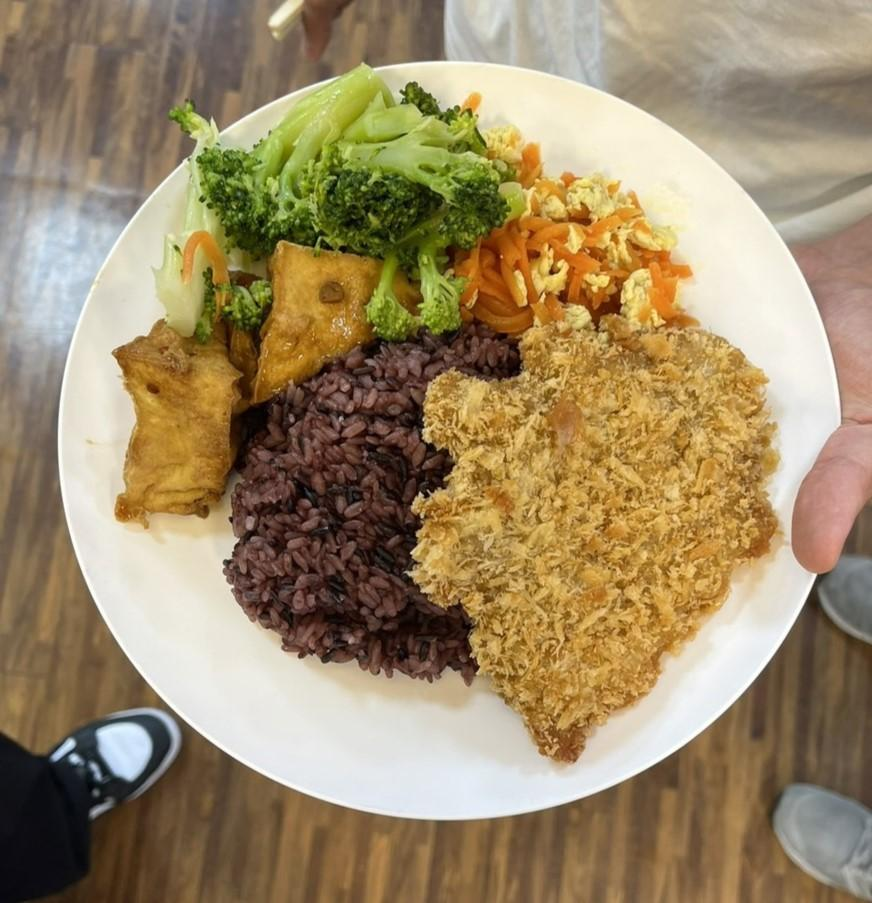big fried chicken leg: (56, 46, 856, 836)
braised fish: (223, 318, 552, 684)
braised fish fillet: (101, 244, 422, 529), (167, 60, 496, 259), (461, 154, 694, 336)
braised pork: (402, 314, 790, 767)
